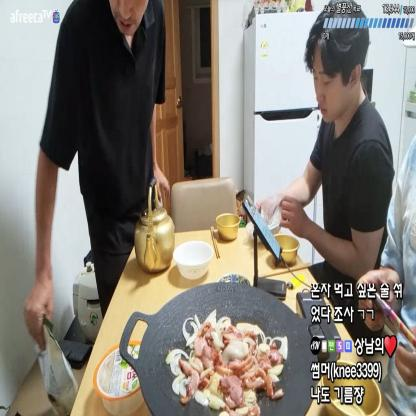streamer: (24, 0, 170, 348), (254, 0, 394, 324), (356, 134, 415, 416)
